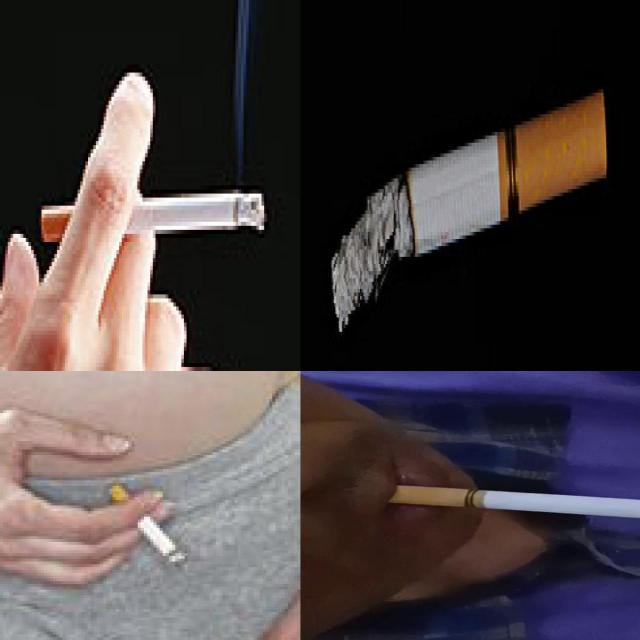cigarette: (329, 86, 607, 336), (40, 192, 265, 244), (391, 487, 639, 525), (109, 484, 186, 566)
